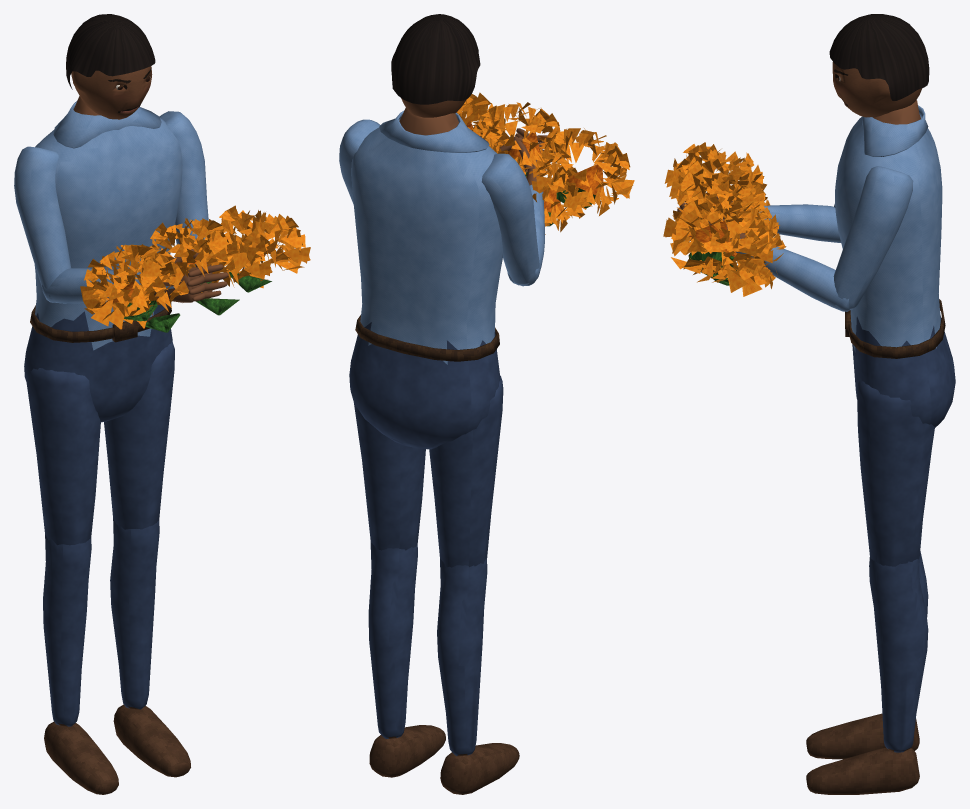
Rendered from persona_hombre_flores_medio.obj.
3 views of the same model, side by side, from view 1: azimuth 30°, elevation 25°; view 2: azimuth 150°, elevation 25°; view 3: azimuth 270°, elevation 25° (orthographic).
Visible parts, largest first — view 1: persona_hombre_flores, Flor_Cempasuchil.001, Flor_Cempasuchil.003, Flor_Cempasuchil.002, Flor_Cempasuchil.005, Flor_Cempasuchil.004; view 2: persona_hombre_flores, Flor_Cempasuchil.001, Flor_Cempasuchil.002, Flor_Cempasuchil.004, Flor_Cempasuchil.003; view 3: persona_hombre_flores, Flor_Cempasuchil.003, Flor_Cempasuchil.002, Flor_Cempasuchil.005, Flor_Cempasuchil.001.
Part boxes in pixels (left/top/right/bottom): persona_hombre_flores: left=14, top=14, right=228, bottom=794; Flor_Cempasuchil.001: left=80, top=244, right=176, bottom=329; Flor_Cempasuchil.003: left=205, top=205, right=310, bottom=292; Flor_Cempasuchil.002: left=150, top=218, right=239, bottom=288; Flor_Cempasuchil.005: left=187, top=234, right=272, bottom=315; Flor_Cempasuchil.004: left=109, top=256, right=188, bottom=332; persona_hombre_flores: left=339, top=14, right=555, bottom=794; Flor_Cempasuchil.001: left=529, top=128, right=634, bottom=218; Flor_Cempasuchil.002: left=473, top=102, right=566, bottom=176; Flor_Cempasuchil.004: left=513, top=154, right=588, bottom=234; Flor_Cempasuchil.003: left=457, top=92, right=507, bottom=132; persona_hombre_flores: left=677, top=14, right=955, bottom=794; Flor_Cempasuchil.003: left=663, top=193, right=772, bottom=292; Flor_Cempasuchil.002: left=669, top=158, right=767, bottom=238; Flor_Cempasuchil.005: left=681, top=202, right=786, bottom=296; Flor_Cempasuchil.001: left=664, top=142, right=766, bottom=205.
Size of the model in its own units: 0.5266 by 1.74 by 0.6079.
15 materials, 15 textured.
